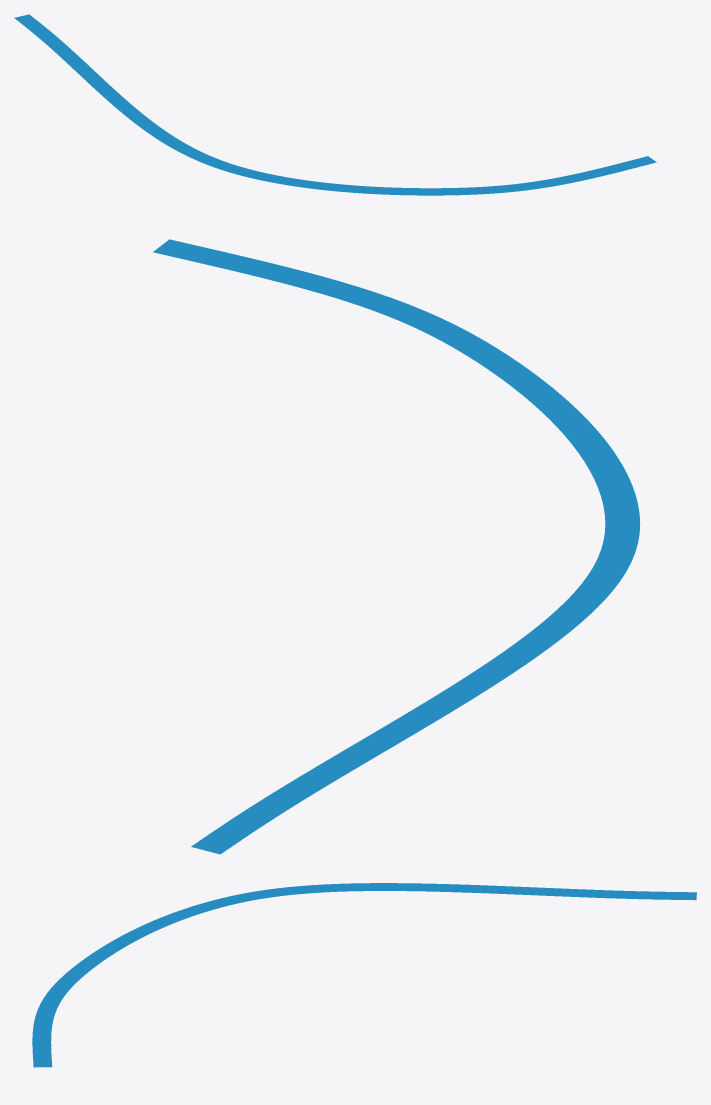
The model's file is guide.glb.
3 views of the same model, one above another, from view 1: azimuth 30°, elevation 25°; view 2: azimuth 150°, elevation 25°; view 3: azimuth 270°, elevation 25° (orthographic). The views are drawn at different scales.
Parts seen in each view (by area): view 1: static; view 2: static; view 3: static.
Part boxes in pixels (x1,y1,x2,y2): static: (14,14,656,195); static: (153,239,640,854); static: (32,883,696,1067).
Size of the model in its own units: 8.41 by 0 by 11.68.
